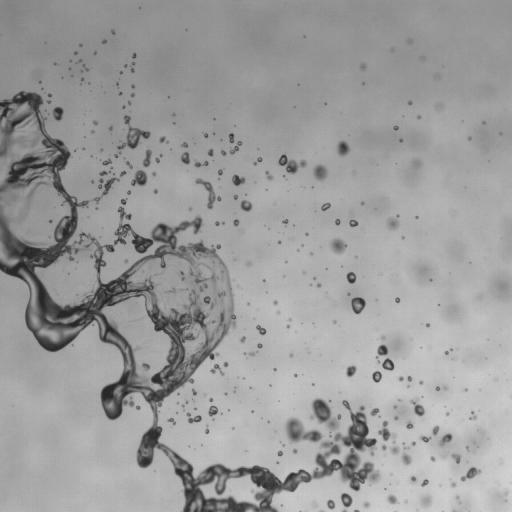droplet: (118, 115, 150, 151), (278, 154, 306, 174), (330, 238, 346, 254), (131, 170, 147, 185), (351, 297, 365, 314), (313, 165, 327, 180), (341, 493, 352, 511), (337, 141, 349, 156), (387, 215, 399, 229), (186, 412, 201, 423), (381, 358, 394, 370), (52, 107, 63, 120), (232, 174, 245, 185), (420, 494, 431, 507), (240, 200, 252, 211), (377, 344, 388, 356), (211, 364, 223, 375), (440, 433, 452, 444), (346, 365, 356, 377), (346, 272, 356, 283), (401, 453, 411, 464), (387, 494, 398, 504), (208, 405, 217, 417), (256, 325, 266, 335), (372, 371, 381, 382), (181, 152, 189, 164), (390, 445, 399, 454), (452, 454, 461, 463), (265, 171, 273, 180), (321, 202, 330, 210), (326, 500, 334, 509), (432, 425, 439, 435), (420, 435, 430, 442), (412, 159, 420, 167), (409, 475, 417, 483), (349, 219, 358, 226), (370, 408, 379, 415), (102, 159, 111, 165), (406, 421, 413, 428), (421, 479, 428, 486), (159, 136, 167, 142), (470, 411, 476, 419), (168, 418, 175, 424), (363, 501, 369, 507), (208, 149, 213, 156), (233, 219, 238, 226), (360, 64, 365, 69), (182, 142, 187, 147), (221, 150, 226, 155), (240, 337, 245, 342), (257, 343, 262, 348), (398, 376, 403, 381), (407, 376, 412, 381), (381, 445, 386, 450), (292, 448, 297, 453), (277, 451, 282, 456), (430, 456, 435, 461), (218, 169, 222, 175), (249, 352, 255, 356), (205, 427, 209, 433), (155, 157, 159, 162), (283, 219, 287, 224), (335, 219, 339, 224), (395, 297, 399, 302), (273, 300, 277, 305), (223, 362, 228, 366), (192, 389, 196, 394), (451, 482, 455, 487), (504, 491, 508, 496), (132, 53, 136, 57), (438, 104, 442, 108), (93, 120, 97, 124), (215, 221, 219, 225), (317, 283, 321, 287), (419, 380, 423, 384), (393, 126, 398, 129), (111, 30, 115, 33), (131, 67, 134, 71), (152, 172, 155, 176), (154, 189, 157, 193), (234, 195, 237, 199), (444, 351, 448, 354), (436, 386, 439, 390), (394, 416, 397, 420), (412, 441, 415, 445), (456, 496, 459, 500), (408, 39, 411, 42), (102, 40, 105, 43), (119, 92, 122, 95), (131, 93, 134, 96), (47, 100, 50, 103), (408, 101, 411, 104), (417, 115, 420, 118), (204, 134, 207, 137), (127, 191, 130, 194), (49, 220, 52, 223), (278, 241, 281, 244), (124, 259, 127, 262), (247, 262, 250, 265), (286, 325, 289, 328), (381, 336, 384, 339), (289, 353, 292, 356), (209, 398, 212, 401), (393, 405, 396, 408), (314, 503, 317, 506), (131, 85, 134, 87), (48, 94, 51, 96), (109, 127, 112, 129), (468, 137, 471, 139), (115, 154, 117, 157), (426, 324, 429, 326), (294, 374, 297, 376), (446, 412, 448, 415), (78, 60, 80, 62), (132, 63, 134, 65), (361, 202, 363, 204), (334, 321, 336, 323), (444, 387, 446, 389), (182, 405, 184, 407), (405, 500, 407, 502)
ligament: (0, 94, 378, 511), (93, 171, 125, 202), (195, 178, 221, 209), (378, 420, 396, 443), (460, 467, 481, 481), (410, 397, 425, 416), (230, 141, 242, 154), (143, 149, 151, 167), (195, 161, 208, 167), (254, 157, 262, 164), (229, 133, 234, 143), (100, 171, 109, 176), (126, 161, 132, 168), (403, 444, 408, 449), (353, 509, 359, 511), (452, 509, 457, 511), (320, 510, 323, 511)
